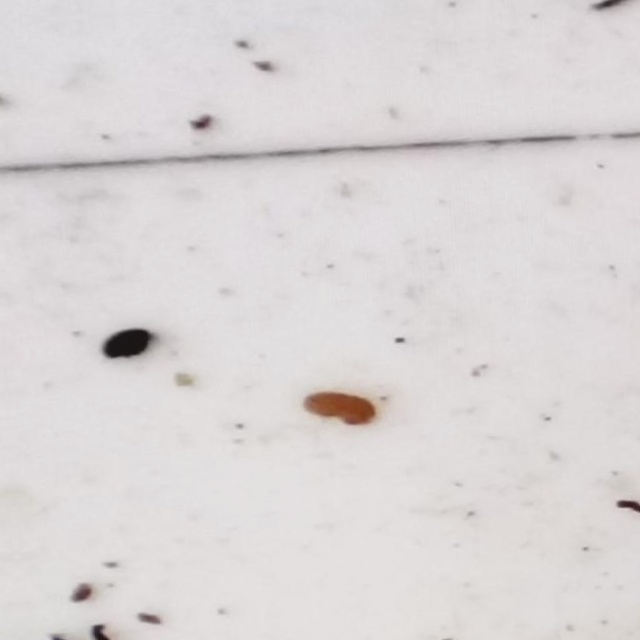varroa: (101, 328, 155, 363)
